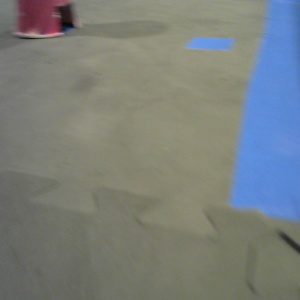middle: (12, 1, 82, 38)
